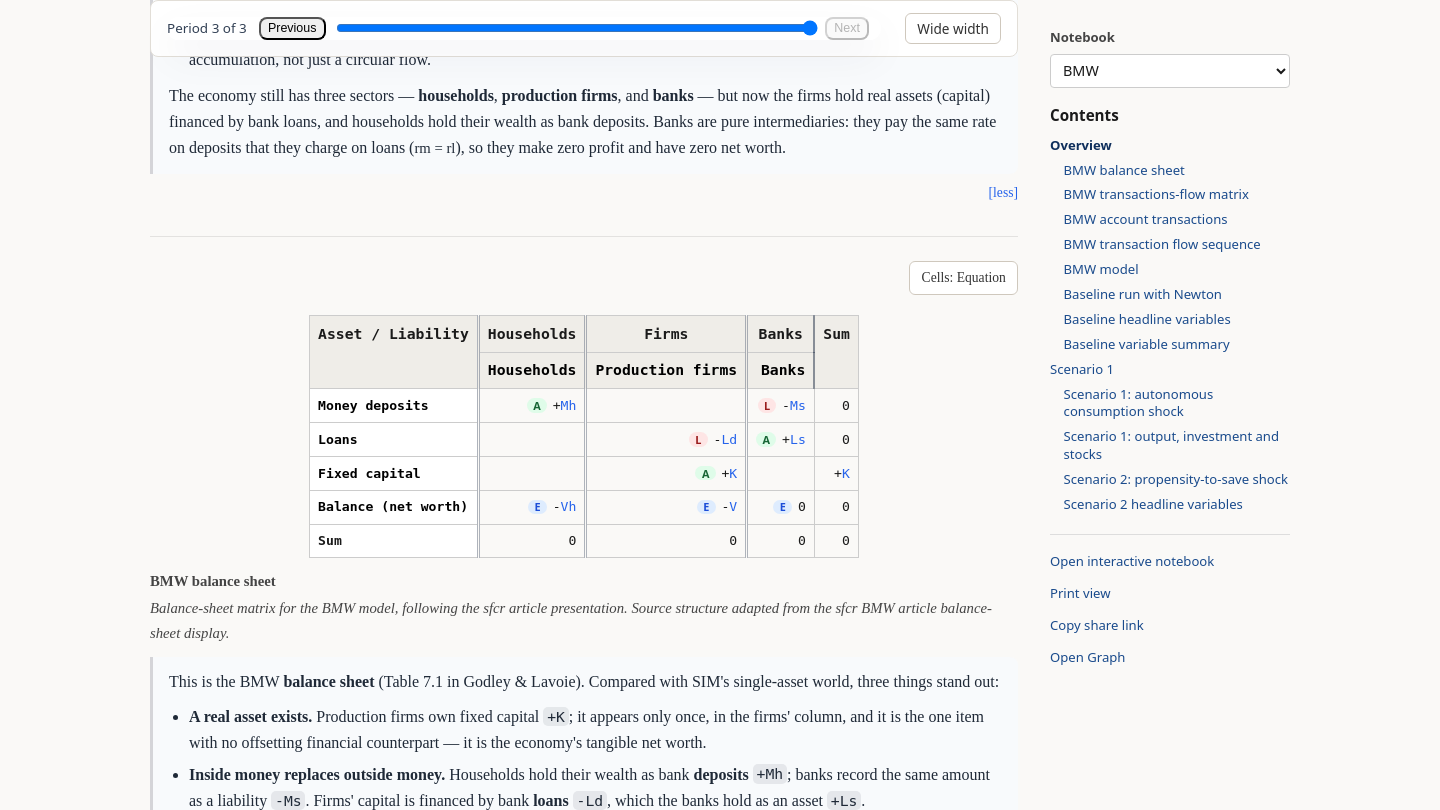
Test case: PublicationNotebookApp matrix graph popup › opens a floating graph popup when a matrix row label is clicked
(page scrolled)
What coordinates should you click on to do the following:
click the button titled "Graph row"
I would click on:
 (373, 406)
Its box is [318, 395, 429, 416].
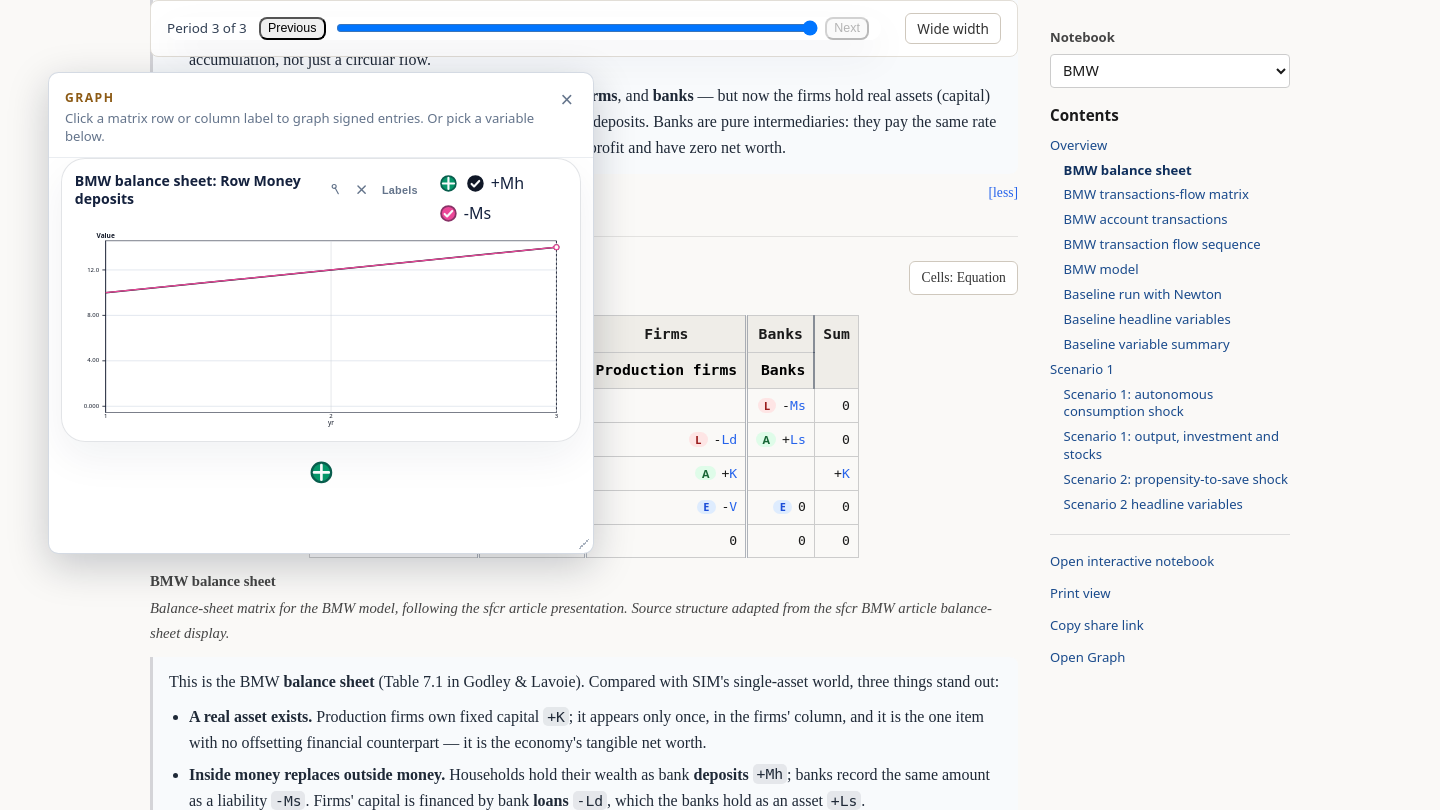
expect the dialog "Graph" is shown: met, box [48, 72, 594, 554]
expect the heading "BMW balance sheet: Row Money deposits" is shown: met, box [75, 172, 318, 207]
